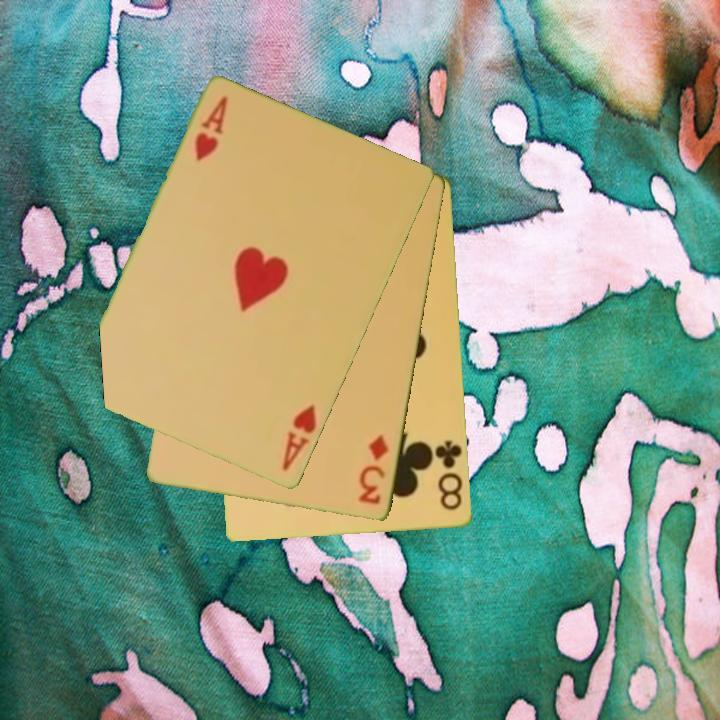3d: (355, 432, 392, 508)
8c: (430, 437, 466, 514)
Ah: (279, 401, 320, 475), (191, 93, 231, 165)
